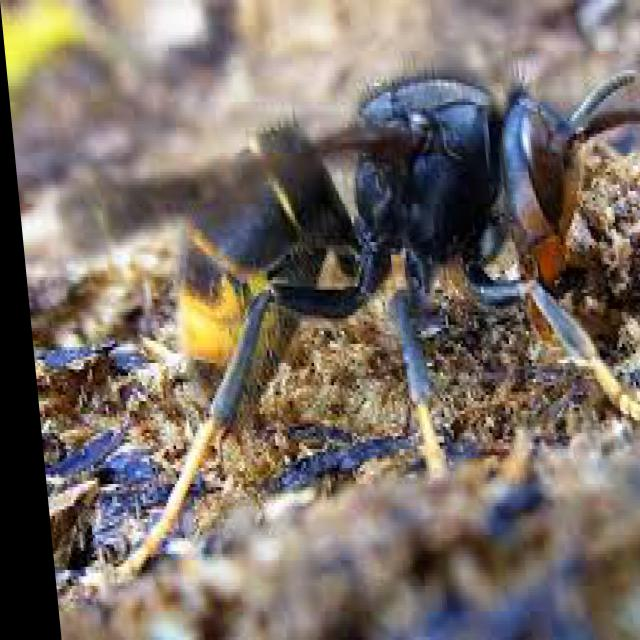Vespa Velutina: (3, 41, 639, 619)
